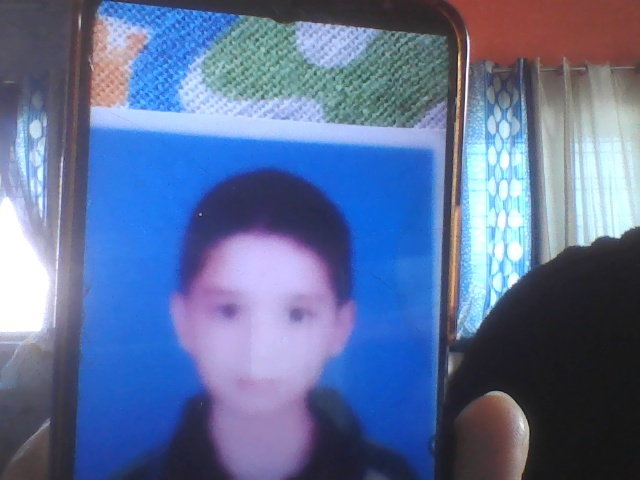fake: (171, 170, 360, 438)
